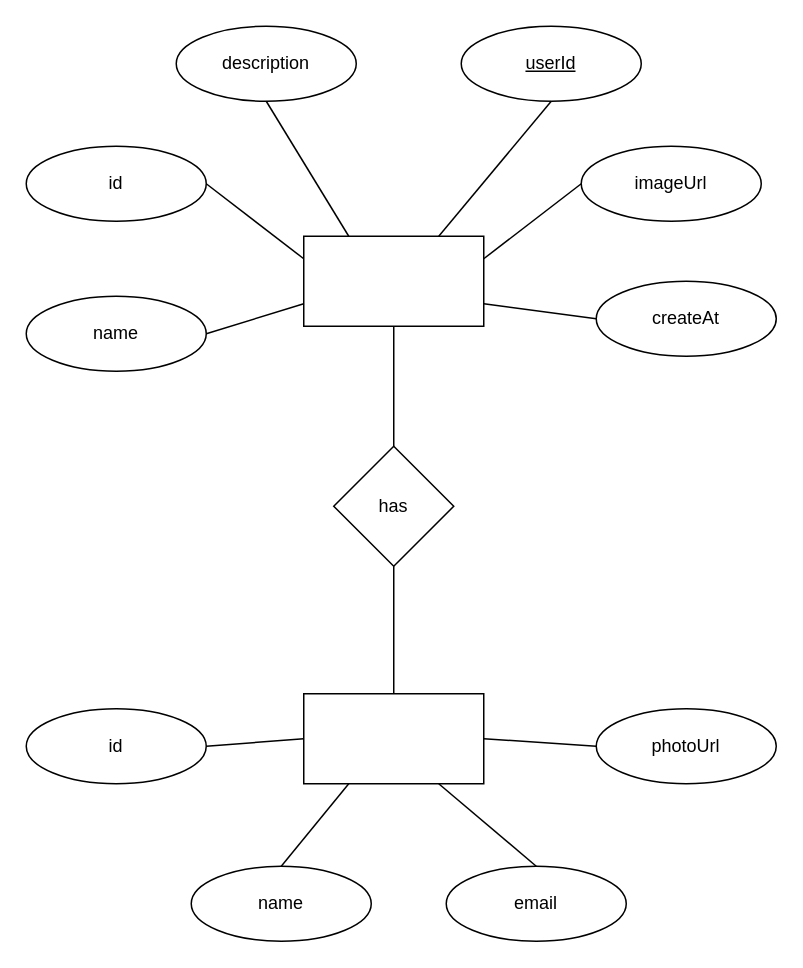
Some shapes in this 803 by 968 pixel diagram are drawn without their labels. The shapes that lost their labels are listed below. From the top down, each one's box as (x1, y1, x2, y2) in pixels, then its label:
(302, 235, 484, 326): Post
(302, 692, 484, 784): user
